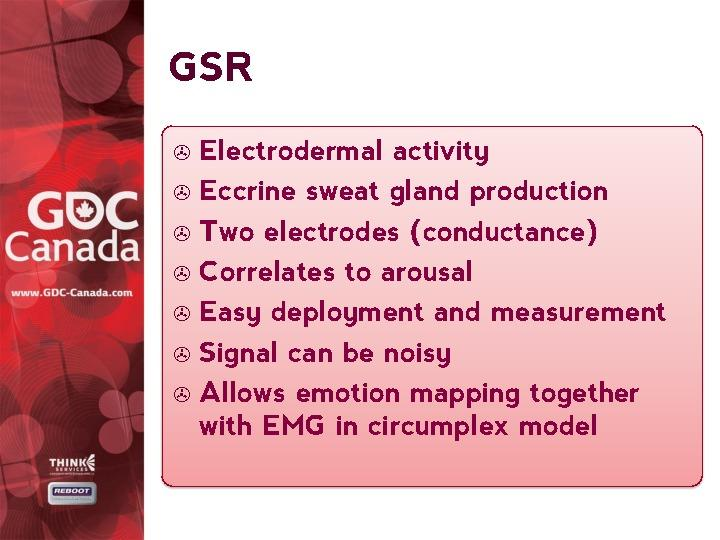paragraph: (166, 130, 688, 465)
title: (170, 37, 257, 91)
